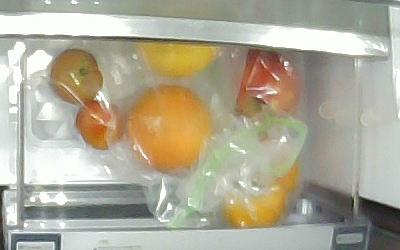apple_vinyl: (231, 48, 302, 119)
grapefruit_vinyl: (126, 85, 215, 172), (134, 41, 224, 78)
persimmon_vinyl: (215, 174, 286, 227)
prune_vinyl: (51, 49, 103, 104), (77, 101, 124, 150)
